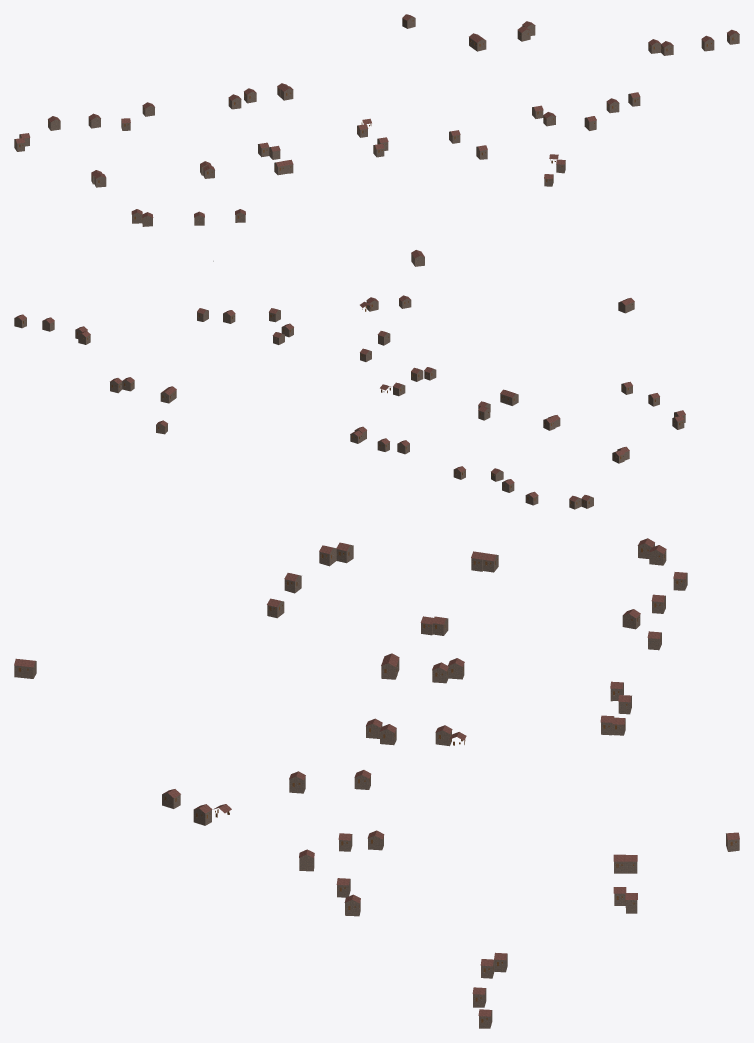
File: CasasInterioresConTexturas.fbx
3 views of the same model, one above another, from view 1: azimuth 30°, elevation 25°; view 2: azimuth 150°, elevation 25°; view 3: azimuth 270°, elevation 25° (orthographic). The views are drawn at different scales.
Bounding box in the file's own units: 20680 × 782 × 13805.
Materials: 3 (3 with a texture image).
